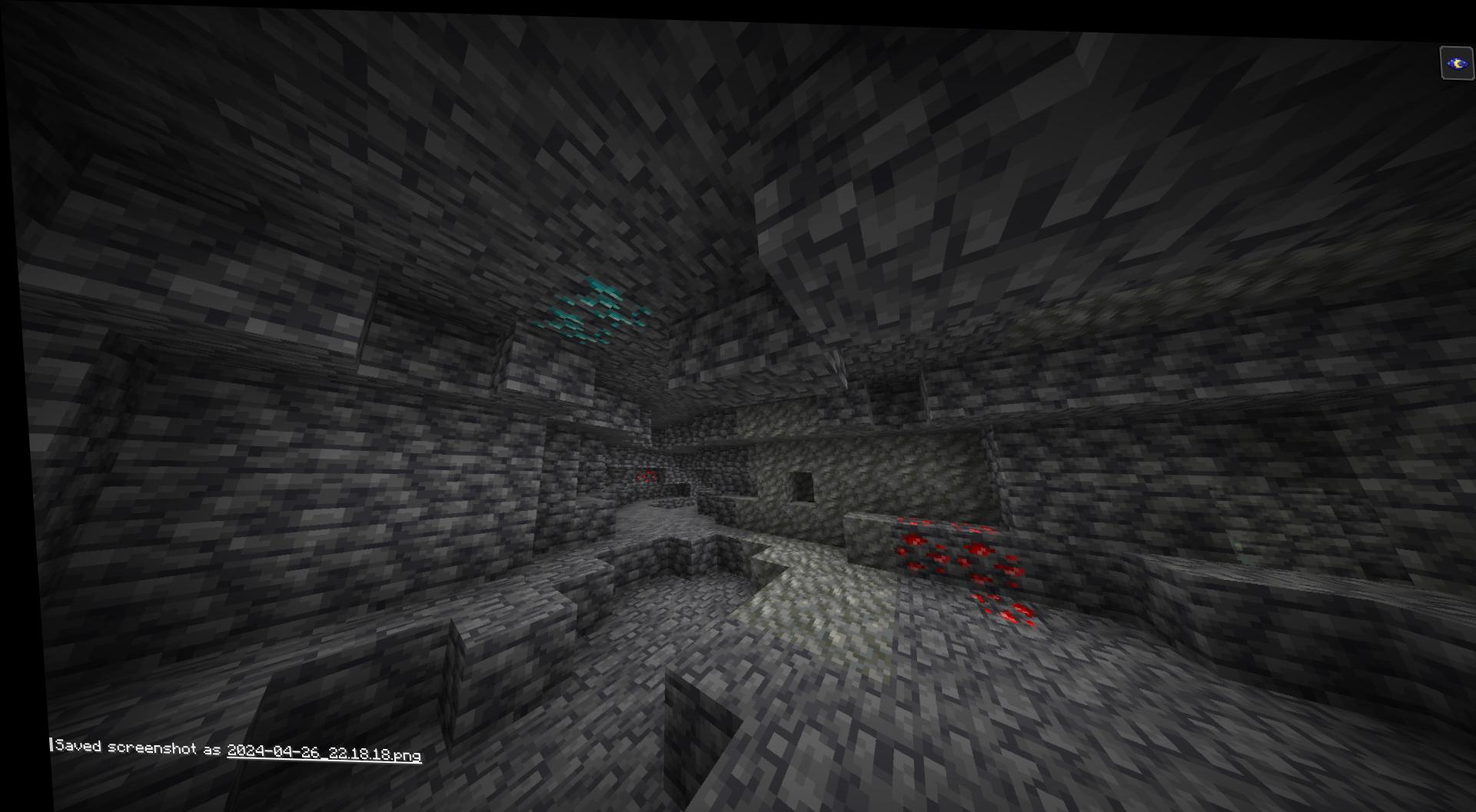diamond ore: (526, 275, 650, 348)
redstone ore: (943, 512, 1019, 586), (883, 512, 944, 575), (953, 581, 1033, 626), (628, 462, 655, 482)
